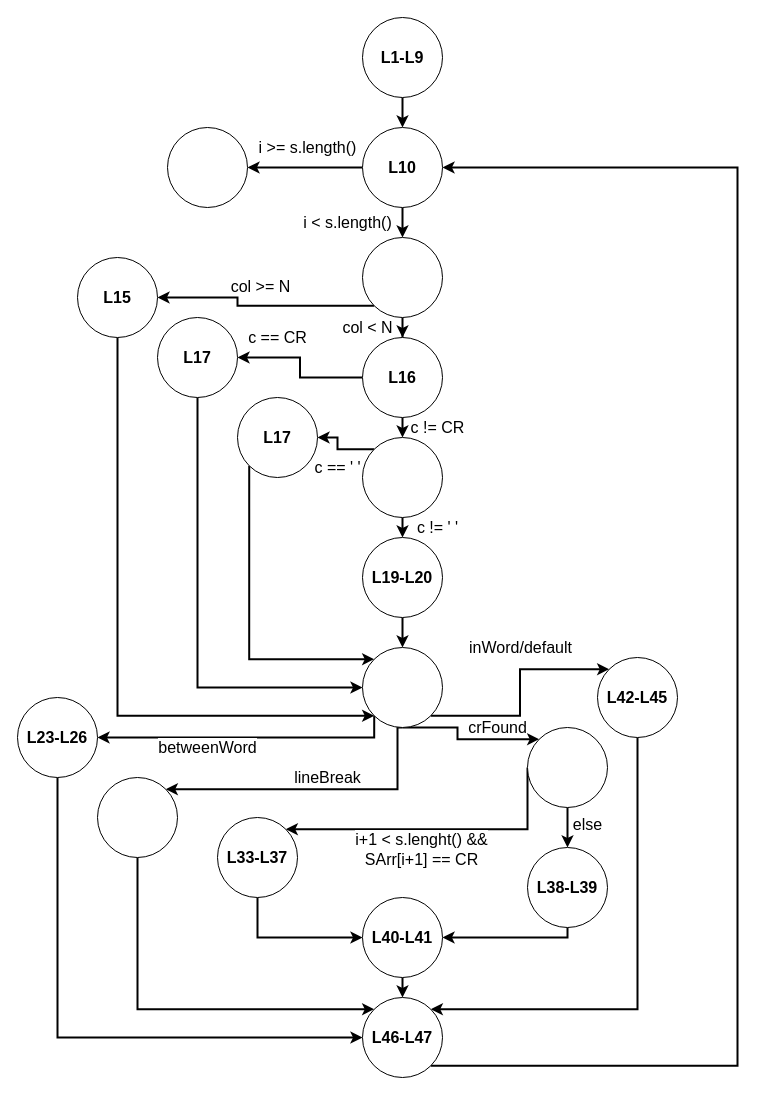
Image size: 764x1095. Some labels were removed from this diagram. The shapes that lost their labels are listed below. From the top down, each one's box as (x1, y1, x2, y2) in pixels, then its label:
(166, 126, 248, 208): L48-L50
(362, 236, 442, 318): L11-L14
(362, 436, 442, 518): L18
(362, 646, 442, 728): L21-L22
(526, 726, 608, 808): L32
(96, 776, 178, 858): L27-L31
